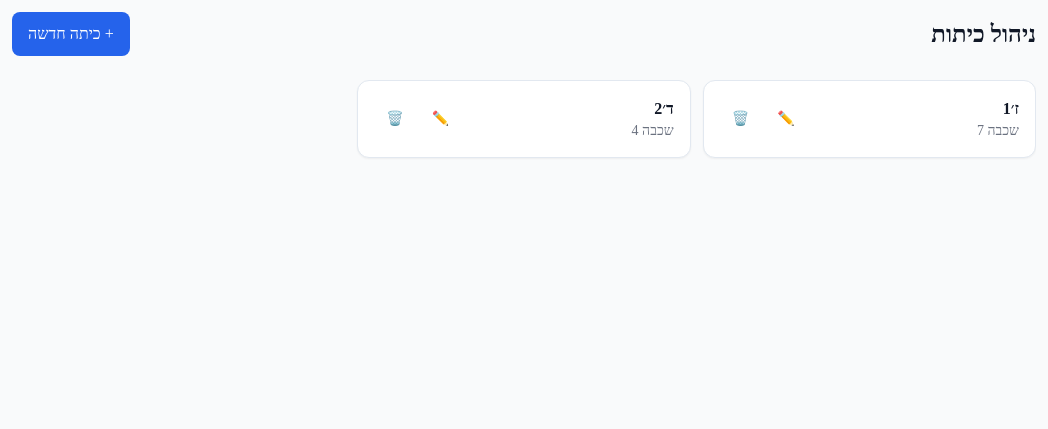
Scenario: ClassesManager › opens edit form with pre-filled data
Click the button named "ערוך ז׳1". click: x=786, y=119
box: [765,101,807,137]
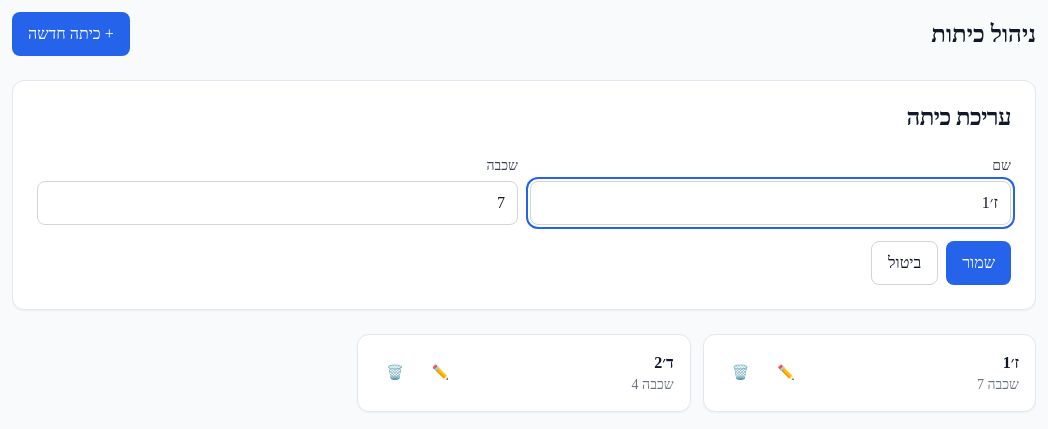
Now the field labelled "שם" holds "ז׳1", box [530,181,1011,225]
